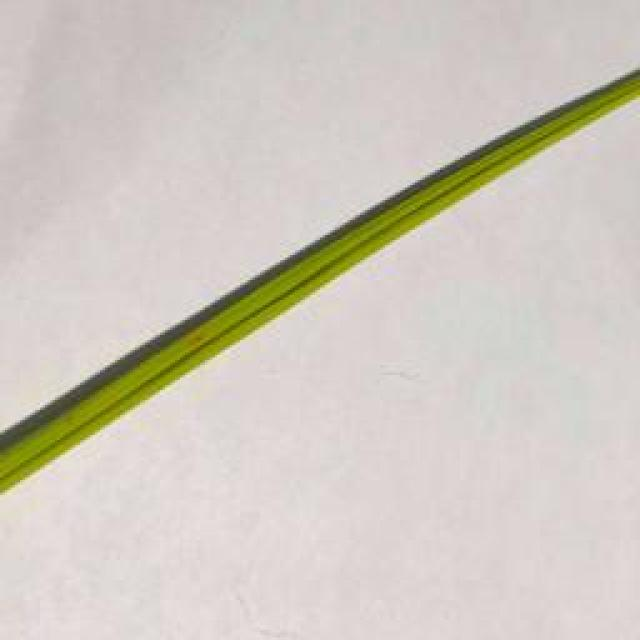Brown_Spot: (187, 325, 210, 347), (62, 410, 81, 424)
